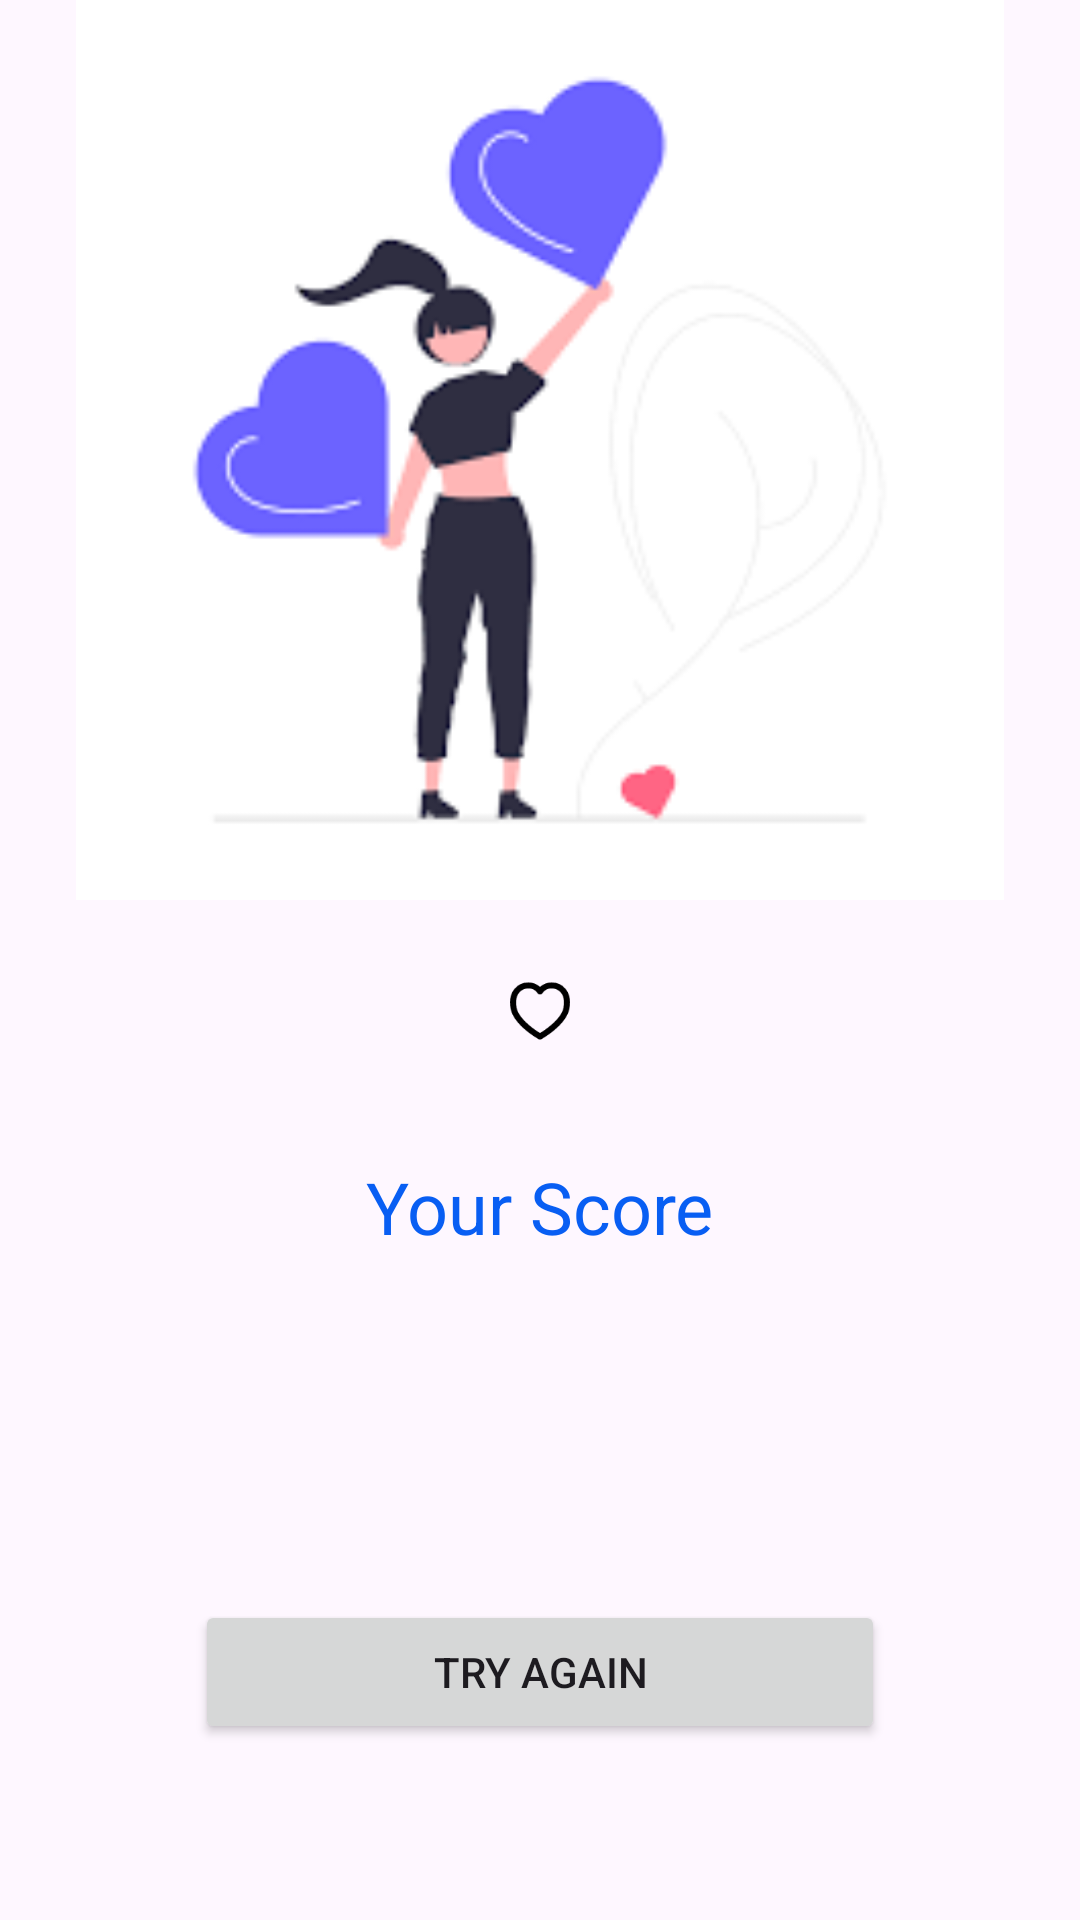

Screen size 1080px x 1920px. Icon name, then its center in pixels as point (x, y):
love: point (540, 1011)
